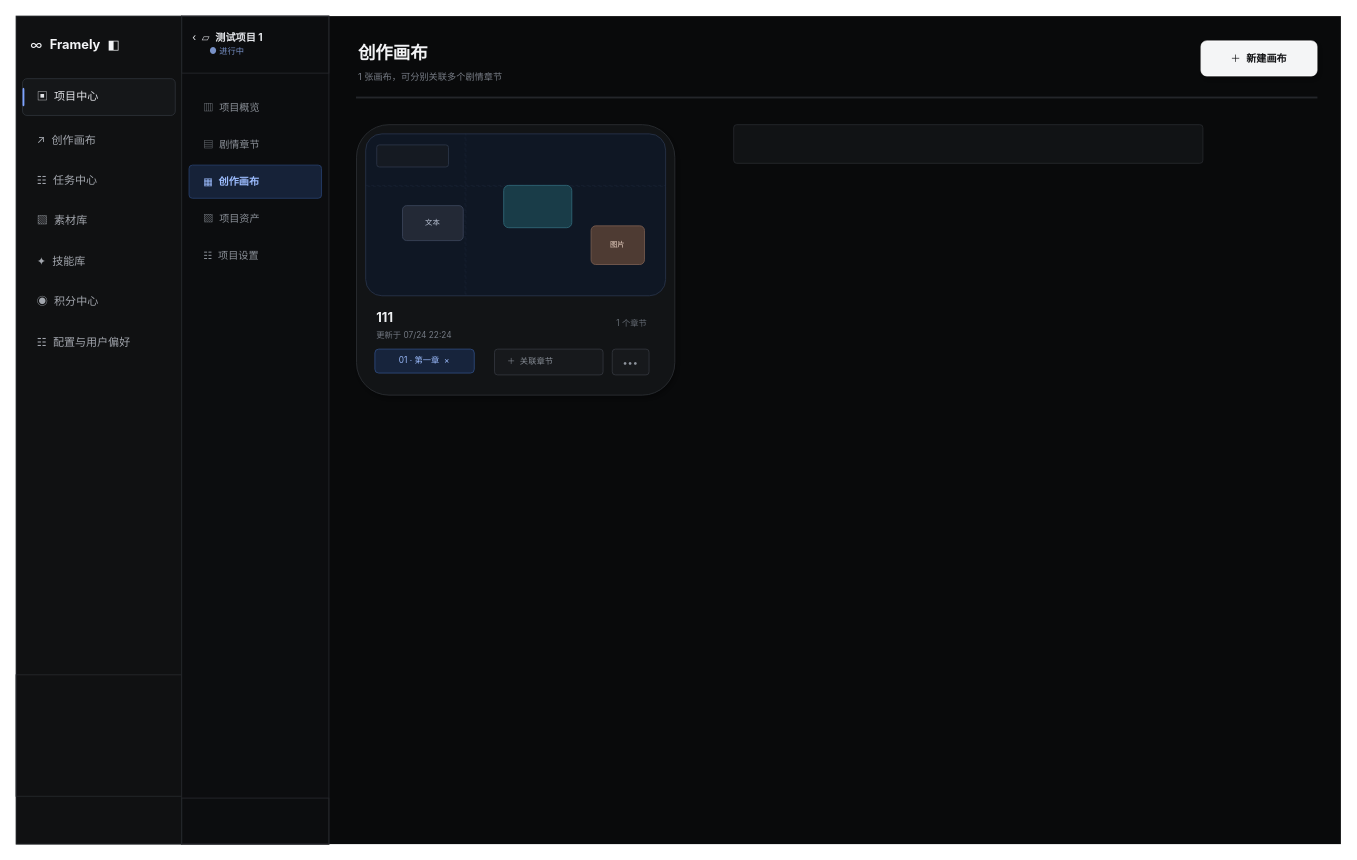
The diagram is 1357 pixels wide and 860 high, and some of its shapes have lost their labels. Here are the shapes that lost their labels. From the top down, the centre of each, then its label:
pixel 412 155: ▦ 画布 01
pixel 968 143: 布局未变 · 默认态优化：真实节点预览、分层表面、统一描边、单一蓝色交互色、管理动作降噪。
pixel 537 206: 分镜
pixel 98 735: ◐ 深色模式 ● ♢ 系统公告 ▤ 更新日志
pixel 255 820: 9:16 · 导入小说
